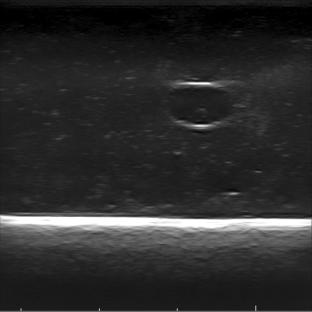vessel: (162, 80, 237, 132)
